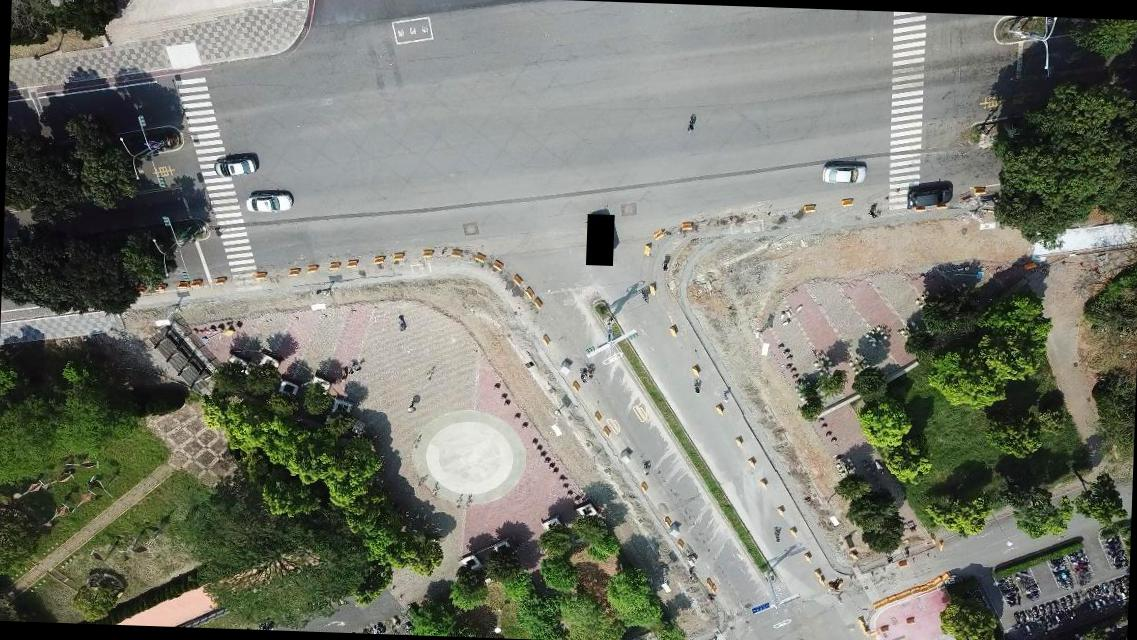vehicle: (905, 184, 952, 212), (244, 190, 292, 213), (212, 154, 258, 178), (822, 162, 866, 186)
